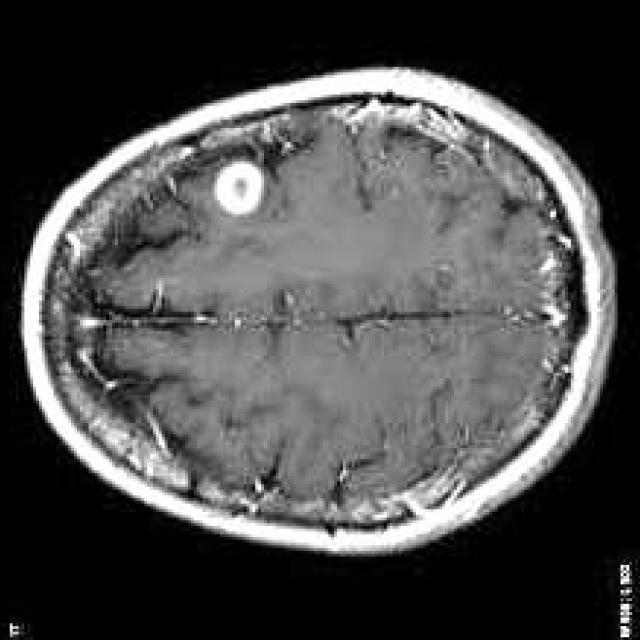tumor: (211, 159, 261, 216)
